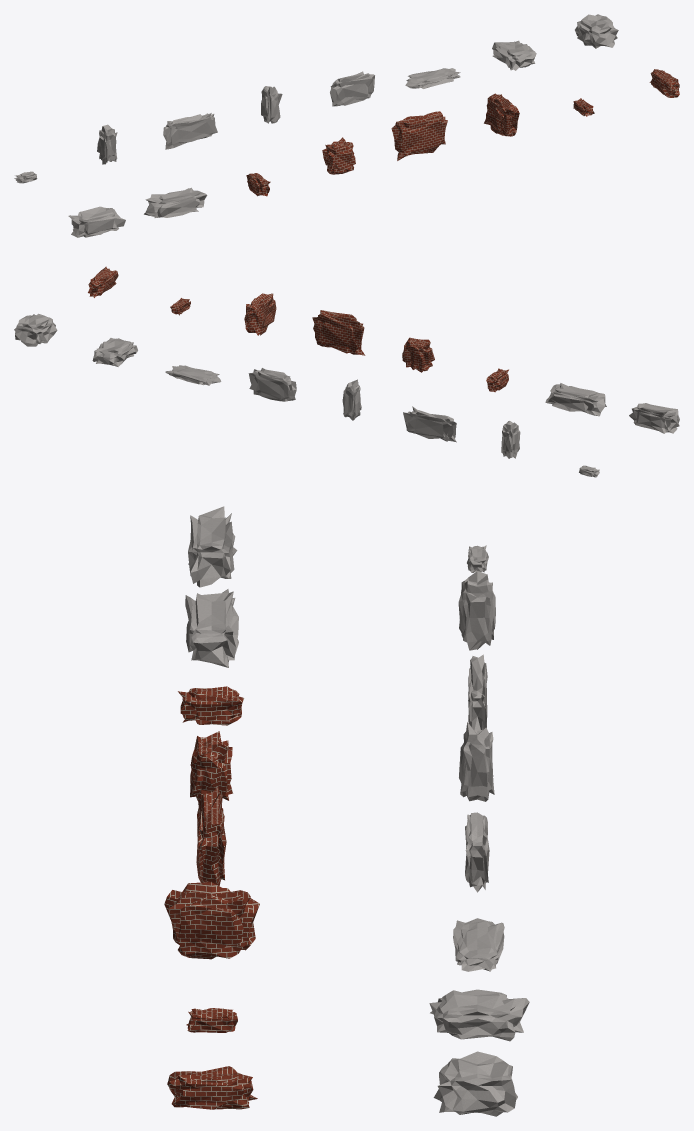
File: debris_pack.glb
The picture shows the model from 3 angles, top to bottom: view 1: azimuth 30°, elevation 25°; view 2: azimuth 150°, elevation 25°; view 3: azimuth 270°, elevation 25°; orthographic projection. The views are drawn at different scales.
Parts seen in each view (by area): view 1: debris_12, debris_09, debris_02, debris_08, debris_04, debris_13, debris_07, debris_06, debris_11, debris_05, debris_03, debris_01 (+2 smaller); view 2: debris_12, debris_09, debris_02, debris_04, debris_08, debris_07, debris_13, debris_06, debris_11, debris_05, debris_03, debris_01 (+2 smaller); view 3: debris_13, debris_07, debris_06, debris_09, debris_15, debris_08, debris_12, debris_01, debris_11, debris_05, debris_03, debris_10 (+3 smaller).
Boxes of the visible parts, bbox=[...] form: debris_12: bbox=[391, 111, 447, 160]; debris_09: bbox=[144, 187, 207, 217]; debris_02: bbox=[163, 113, 217, 149]; debris_08: bbox=[68, 206, 125, 237]; debris_04: bbox=[330, 71, 374, 106]; debris_13: bbox=[484, 93, 519, 136]; debris_07: bbox=[575, 14, 618, 48]; debris_06: bbox=[492, 40, 536, 70]; debris_11: bbox=[322, 137, 355, 174]; debris_05: bbox=[405, 68, 460, 88]; debris_03: bbox=[261, 86, 282, 123]; debris_01: bbox=[97, 124, 117, 164]; debris_12: bbox=[312, 310, 365, 355]; debris_09: bbox=[545, 383, 606, 416]; debris_02: bbox=[403, 406, 456, 442]; debris_04: bbox=[248, 368, 296, 401]; debris_08: bbox=[629, 403, 679, 433]; debris_07: bbox=[14, 313, 57, 346]; debris_13: bbox=[244, 293, 276, 335]; debris_06: bbox=[92, 338, 137, 366]; debris_11: bbox=[402, 337, 434, 372]; debris_05: bbox=[165, 365, 221, 385]; debris_03: bbox=[342, 379, 361, 420]; debris_01: bbox=[501, 421, 520, 458]; debris_13: bbox=[164, 882, 259, 959]; debris_07: bbox=[433, 1051, 517, 1116]; debris_06: bbox=[429, 989, 529, 1041]; debris_09: bbox=[185, 589, 238, 667]; debris_15: bbox=[167, 1066, 257, 1109]; debris_08: bbox=[188, 506, 237, 587]; debris_12: bbox=[196, 787, 226, 886]; debris_01: bbox=[458, 571, 495, 650]; debris_11: bbox=[190, 731, 233, 804]; debris_05: bbox=[453, 918, 504, 971]; debris_03: bbox=[459, 722, 494, 801]; debris_10: bbox=[178, 686, 244, 725].
Size of the model in its own units: 4.12 by 0.2663 by 1.1.
Materials: 2 (2 with a texture image).
